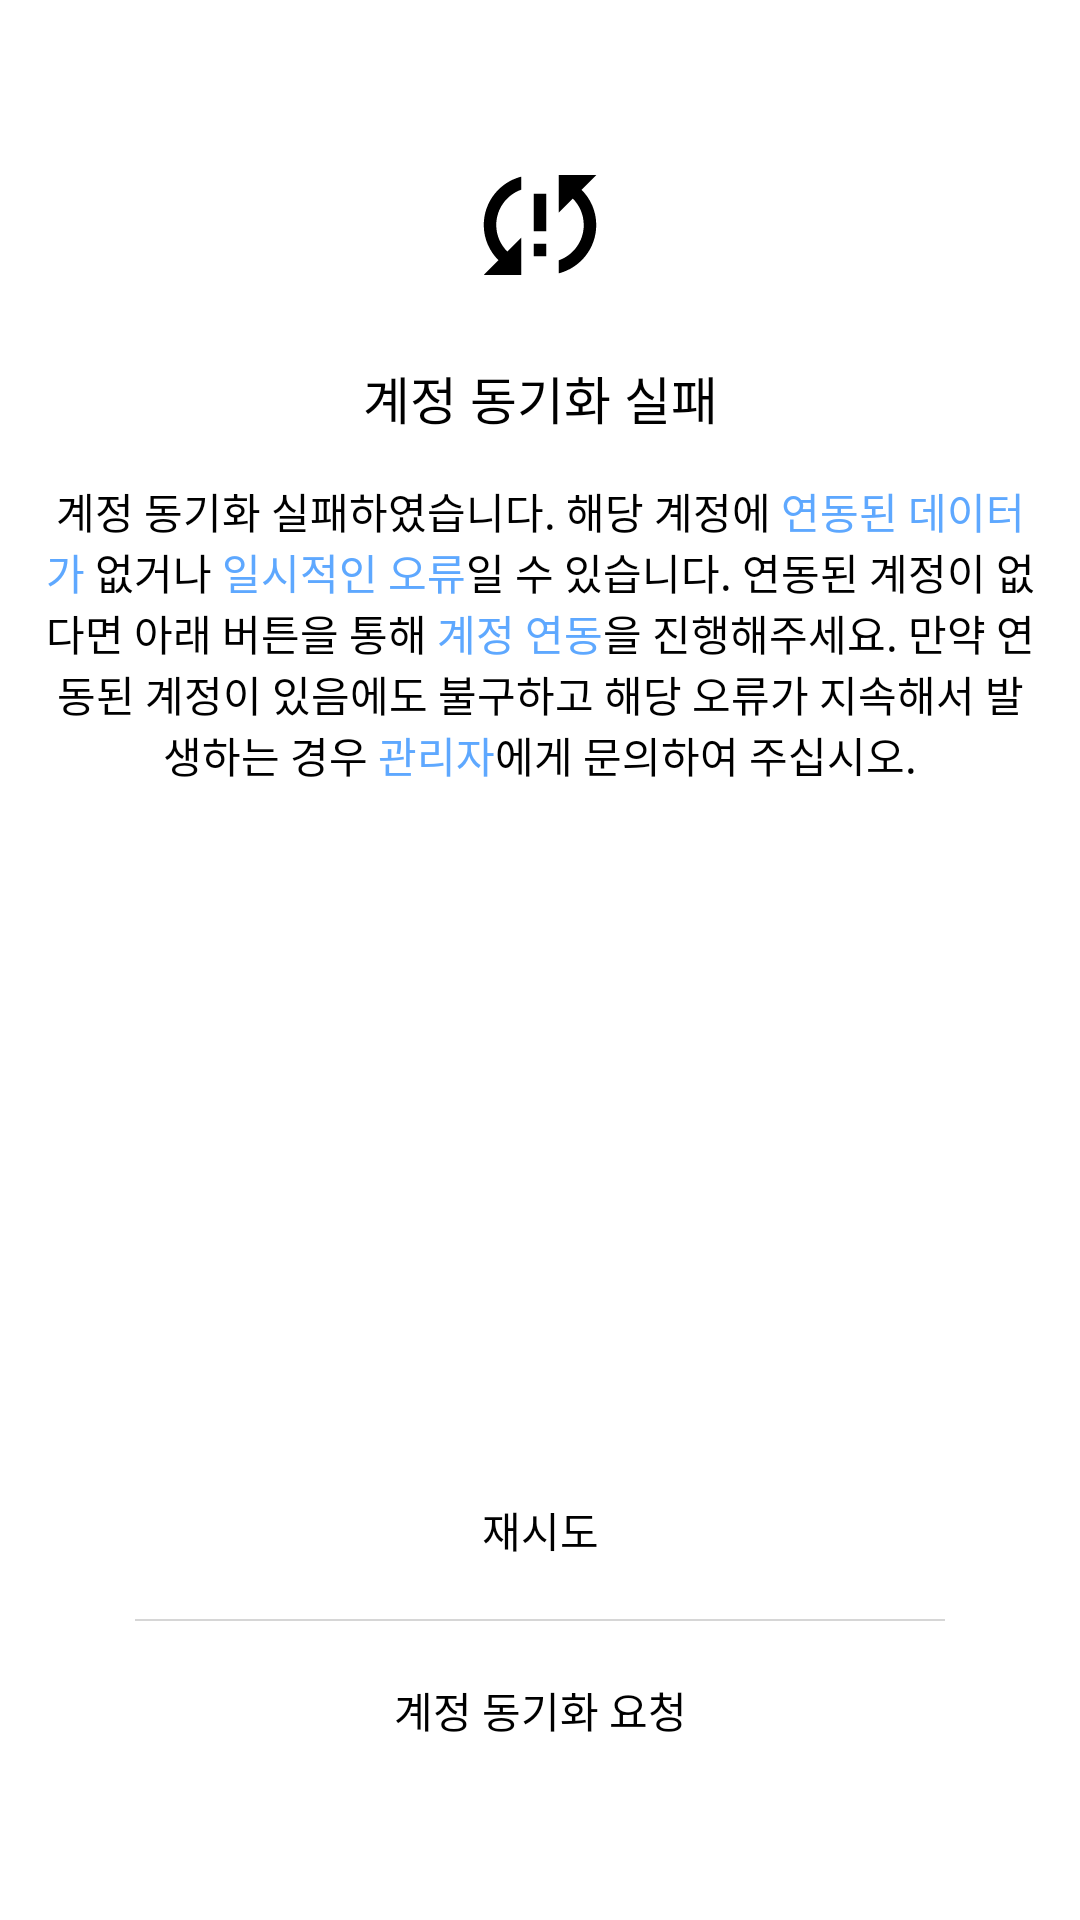

Where to tap for icons on this 1080px×1920px app screen, as (x,y):
sync problem: (540,225)
